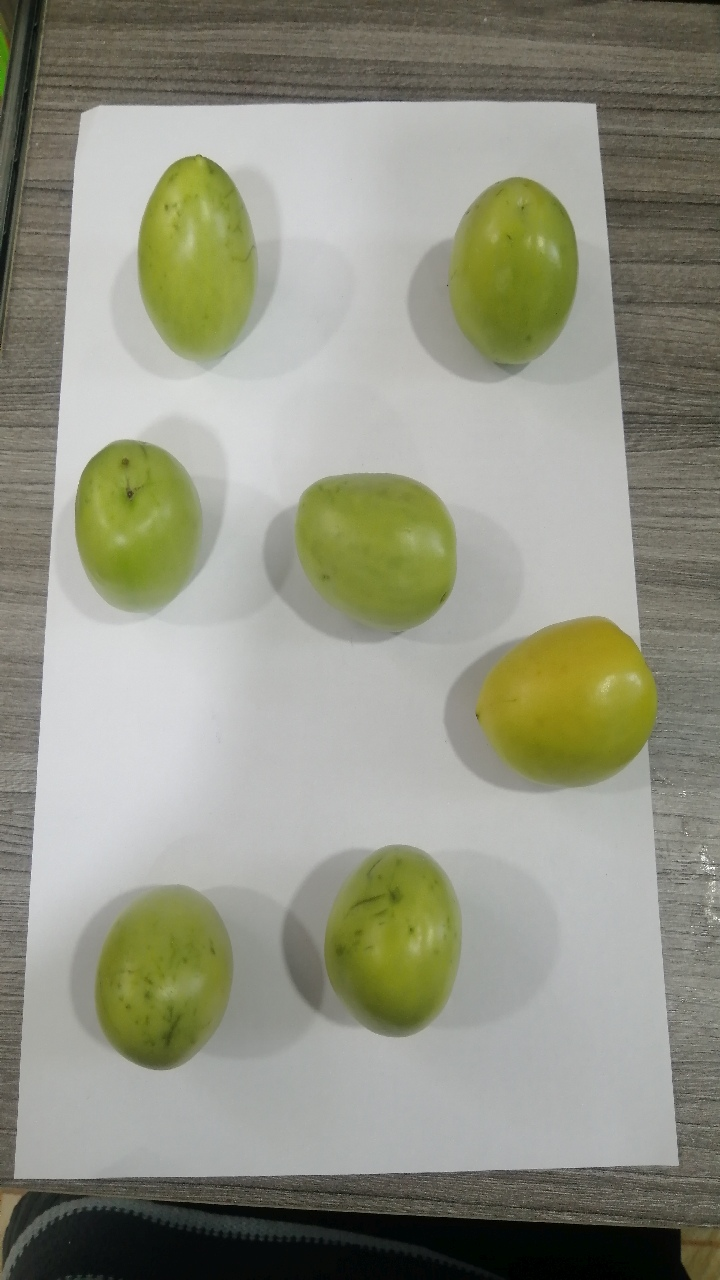tomateVerde: (452, 603, 671, 799), (80, 869, 258, 1097), (426, 168, 603, 388), (115, 134, 266, 385), (308, 835, 471, 1052), (71, 419, 232, 623), (295, 457, 452, 642)
